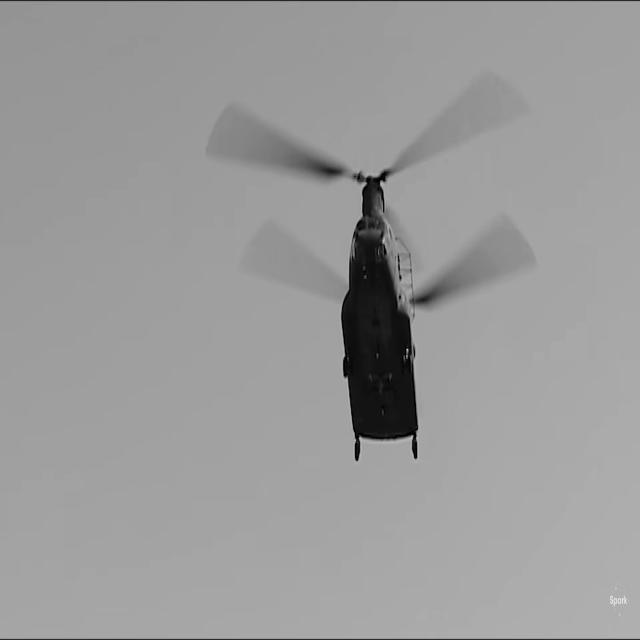Helicopter: (207, 73, 535, 458)
